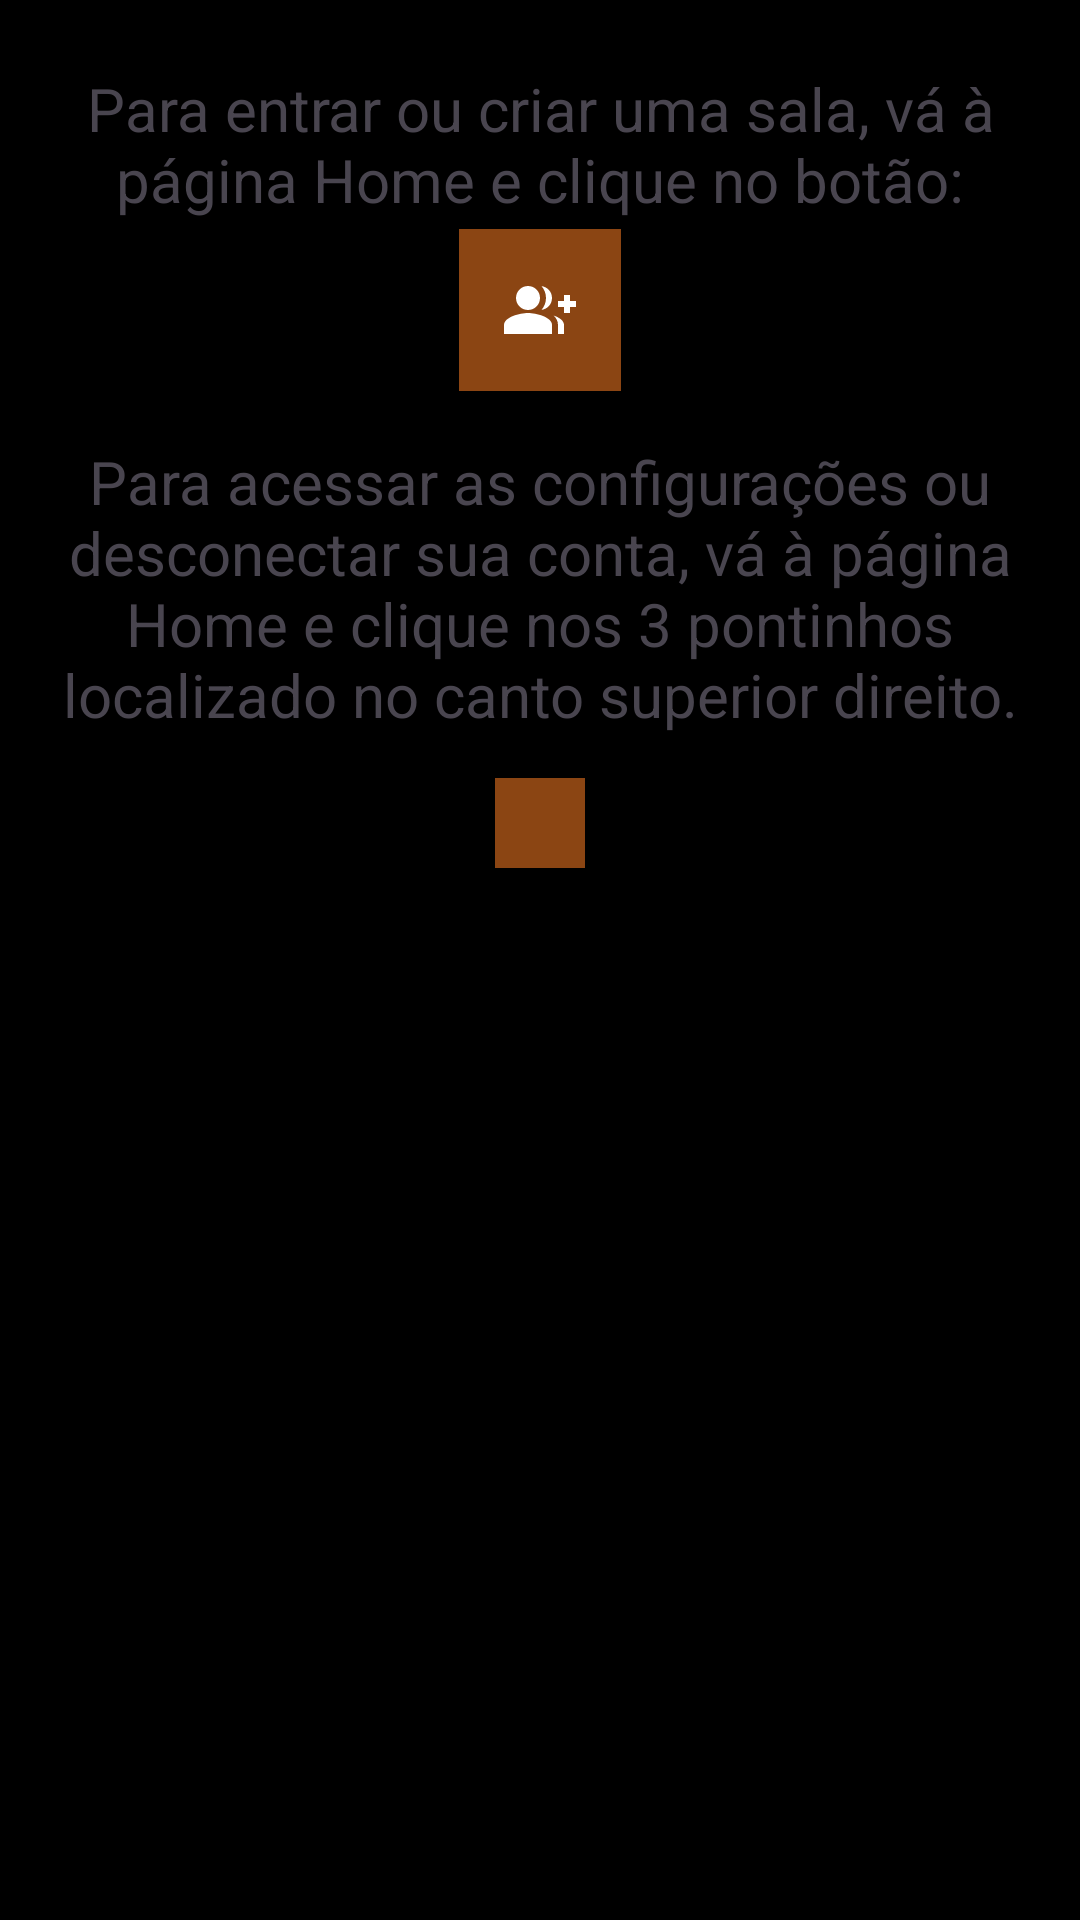

Icon click points for this 1080w x 1920h phone screenshot, format (x,y):
group add: (540,310)
